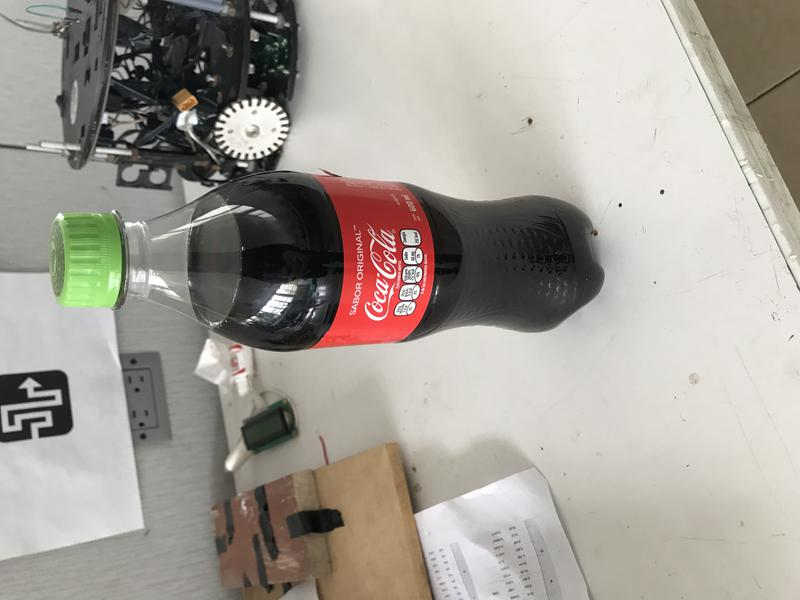coca_cola: (47, 171, 606, 354)
